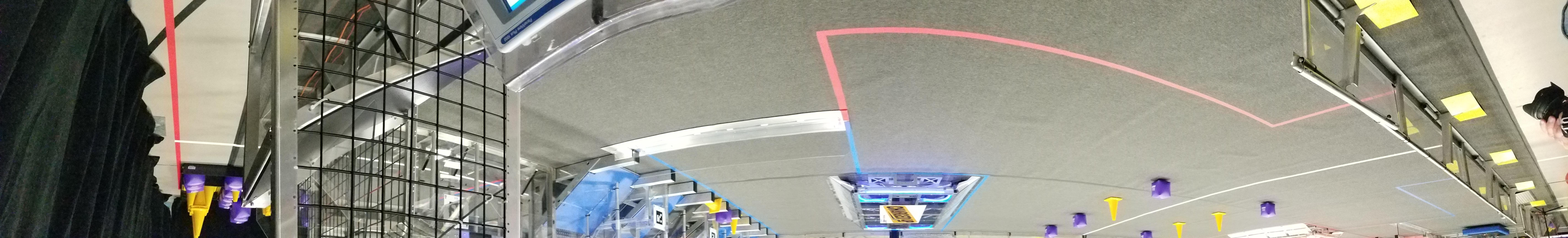cone: (1356, 0, 1381, 33), (334, 4, 364, 30), (444, 17, 466, 44), (378, 0, 398, 19), (848, 18, 863, 43), (824, 4, 839, 25)
cube: (1314, 12, 1354, 50), (394, 36, 426, 69), (1362, 48, 1391, 77), (289, 18, 314, 41), (478, 10, 502, 30), (835, 14, 856, 34), (1325, 50, 1351, 66), (503, 0, 529, 15), (408, 0, 434, 10)
robot: (52, 0, 110, 19)
